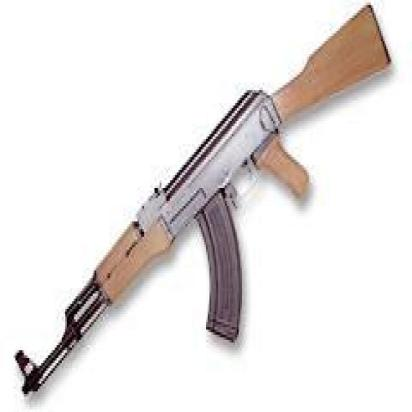Gun: (12, 0, 403, 412)
